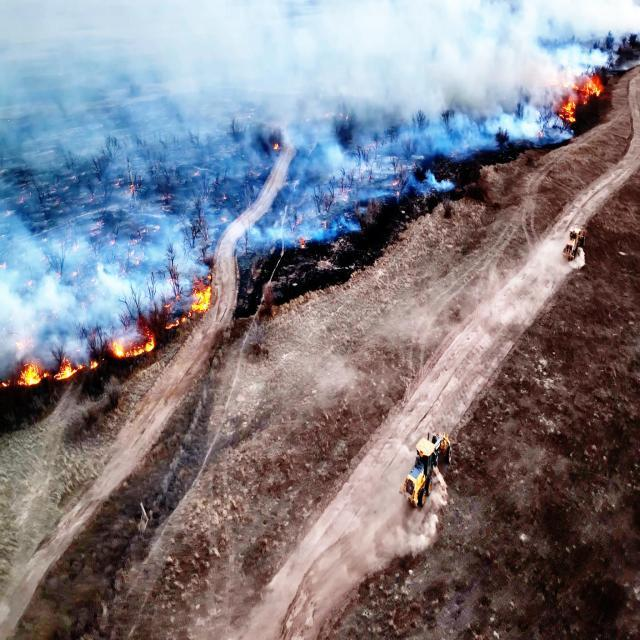Fire: (2, 326, 156, 393), (564, 61, 604, 136), (190, 278, 213, 312)
Smoke: (0, 0, 561, 116), (0, 117, 445, 227), (2, 233, 188, 306)
